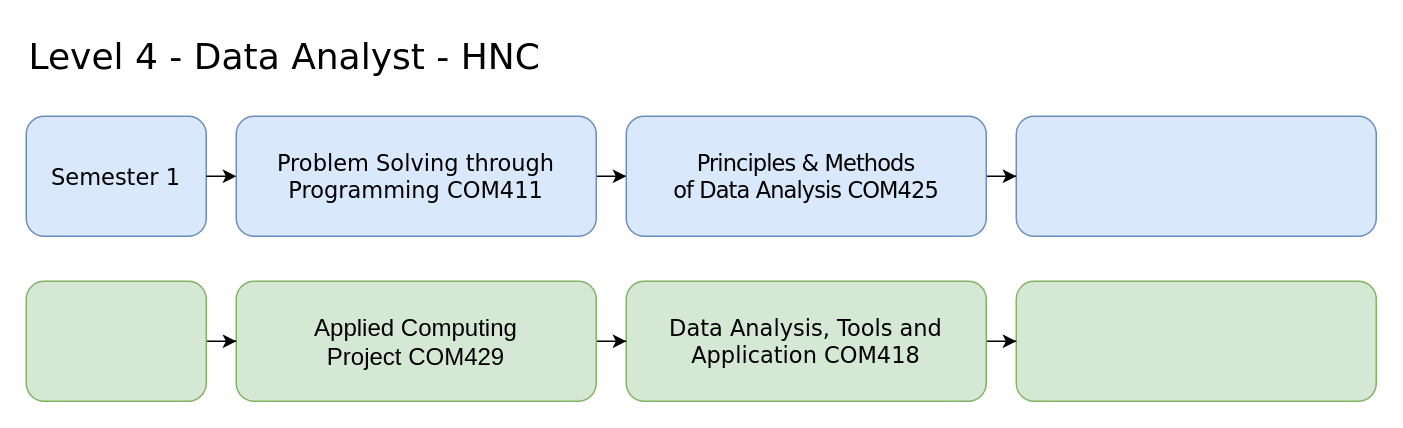
This 1403x428 diagram has some shape labels left out. The shapes that lost their labels are listed below. From the top down, each one's centre as x and y in pixels, then its label:
point 1195,175: Introduction to Databases COM417
point 115,340: Semester 2
point 1195,340: Systems Analysis & Design Work Based Project COM423
